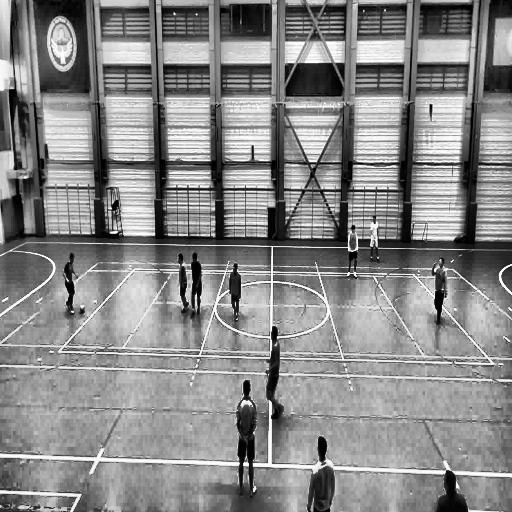ball: (80, 304, 85, 313)
player: (236, 381, 256, 498), (306, 435, 333, 512), (265, 323, 285, 418), (432, 257, 448, 326), (64, 252, 77, 316), (178, 254, 189, 316), (192, 253, 202, 319), (230, 262, 241, 322), (347, 225, 359, 276), (369, 216, 380, 261)
